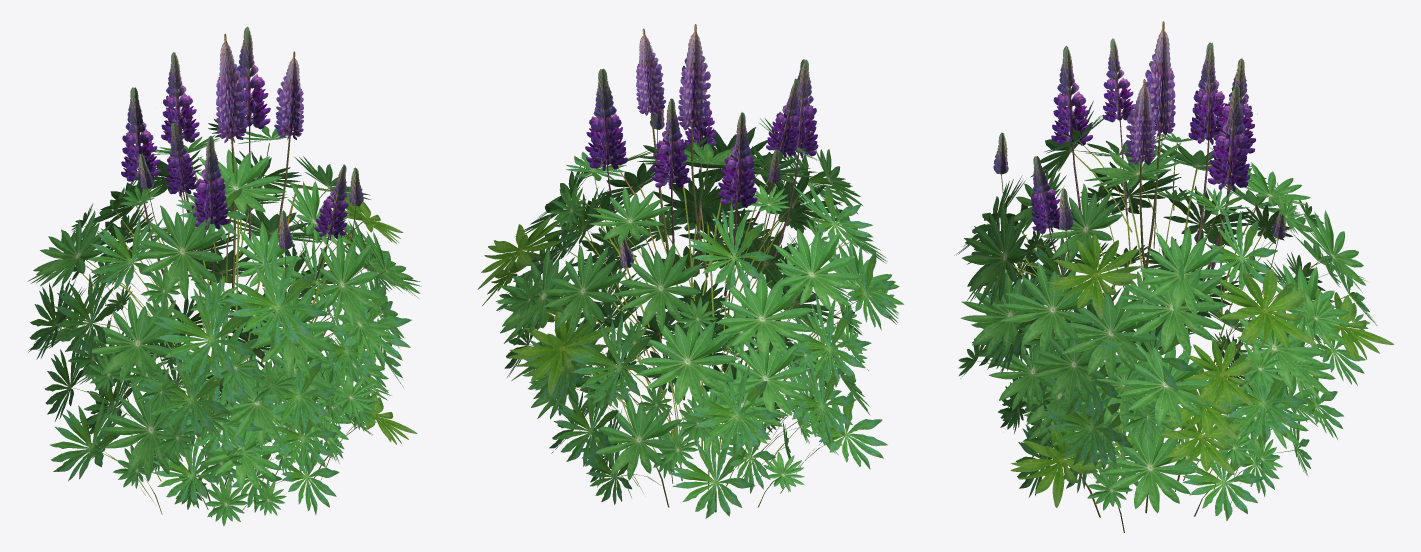
File: lupine_plant.glb
The picture shows the model from 3 angles, left to right: view 1: azimuth 30°, elevation 25°; view 2: azimuth 150°, elevation 25°; view 3: azimuth 270°, elevation 25°; orthographic projection. The views are drawn at different scales.
Parts seen in each view (by area): view 1: Object_2; view 2: Object_2; view 3: Object_2.
Boxes of the visible parts, x1,y1,x2,y2 form: Object_2: [27, 26, 421, 526]; Object_2: [477, 24, 903, 518]; Object_2: [954, 21, 1393, 532].
Bounding box in the file's own units: 76.55 × 88.77 × 77.27.
1 material, 1 textured.
